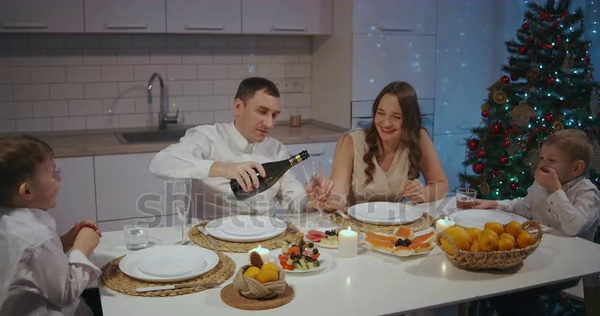No Mask: (1, 136, 68, 210), (533, 126, 594, 189), (234, 75, 287, 146), (369, 89, 413, 143)
